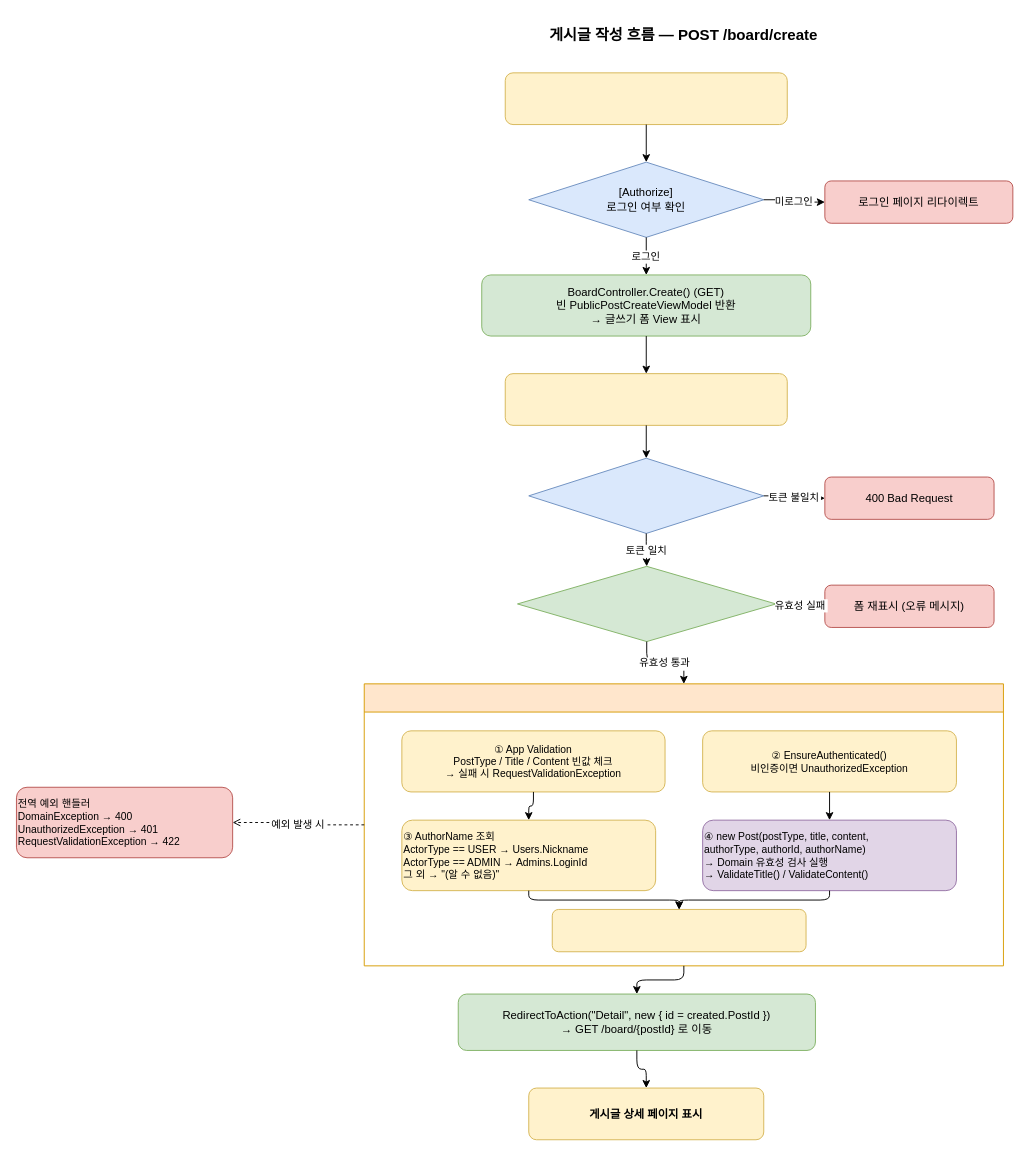
This 1029x1156 diagram has some shape labels left out. The shapes that lost their labels are listed below. From the top down, each one's box as (x1, y1, x2, y2) in pixels, then its label:
(504, 72, 787, 125): Client GET /board/create 요청 (글쓰기 폼)
(504, 373, 787, 425): 유저가 제목 / 내용 입력 후 제출 POST /board/create (Form)
(528, 457, 764, 533): [ValidateAntiForgeryToken] CSRF 토큰 검증
(517, 565, 776, 642): BoardController.Create() (POST) ModelState.IsValid 검사
(363, 683, 1003, 966): PublicPostService.CreateAsync(request)
(551, 909, 806, 952): ⑤ _db.Posts.Add(post) SaveChangesAsync()
